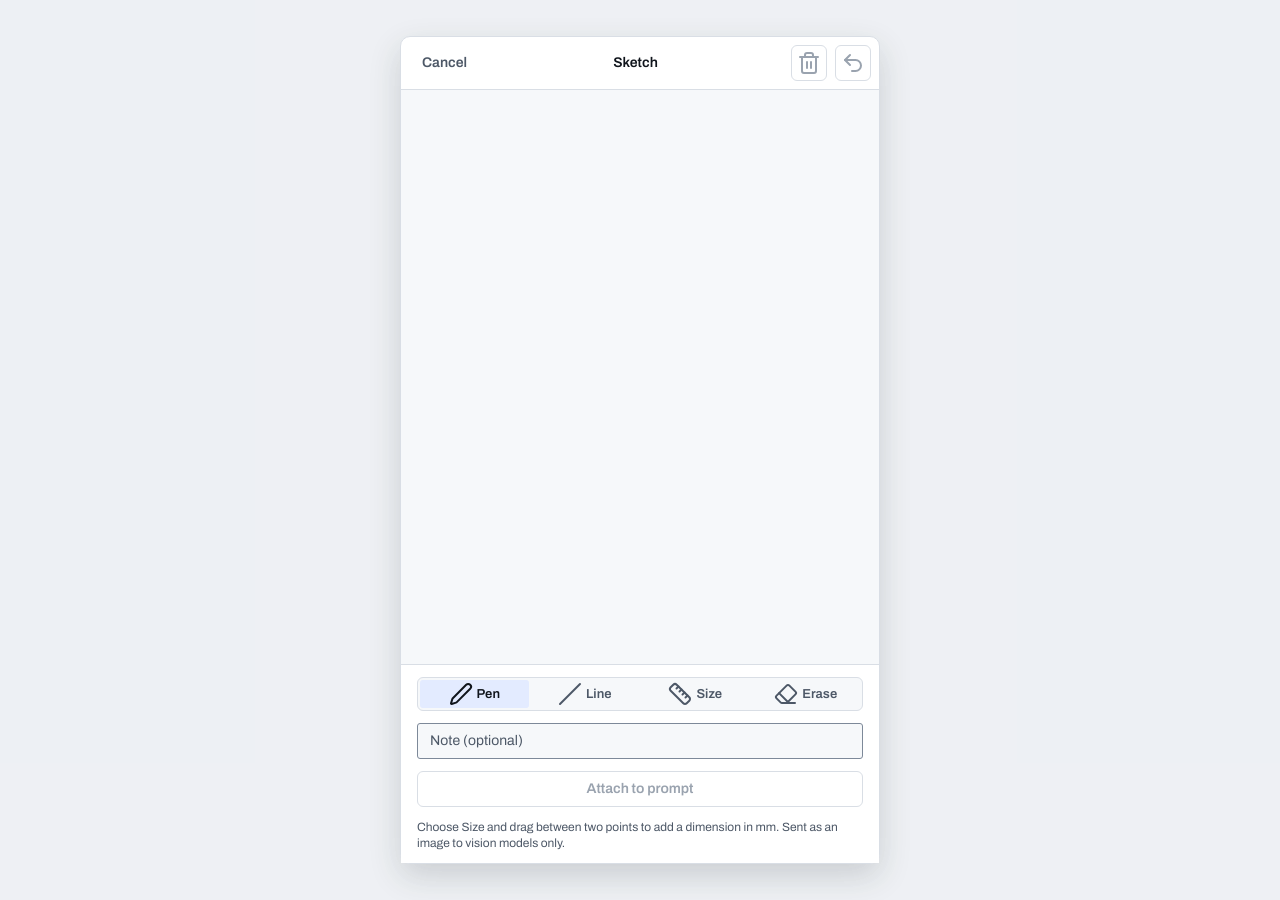
Test: undo and clear remove what was drawn
Click the button "Line". click: (585, 694)
box: [530, 680, 639, 708]
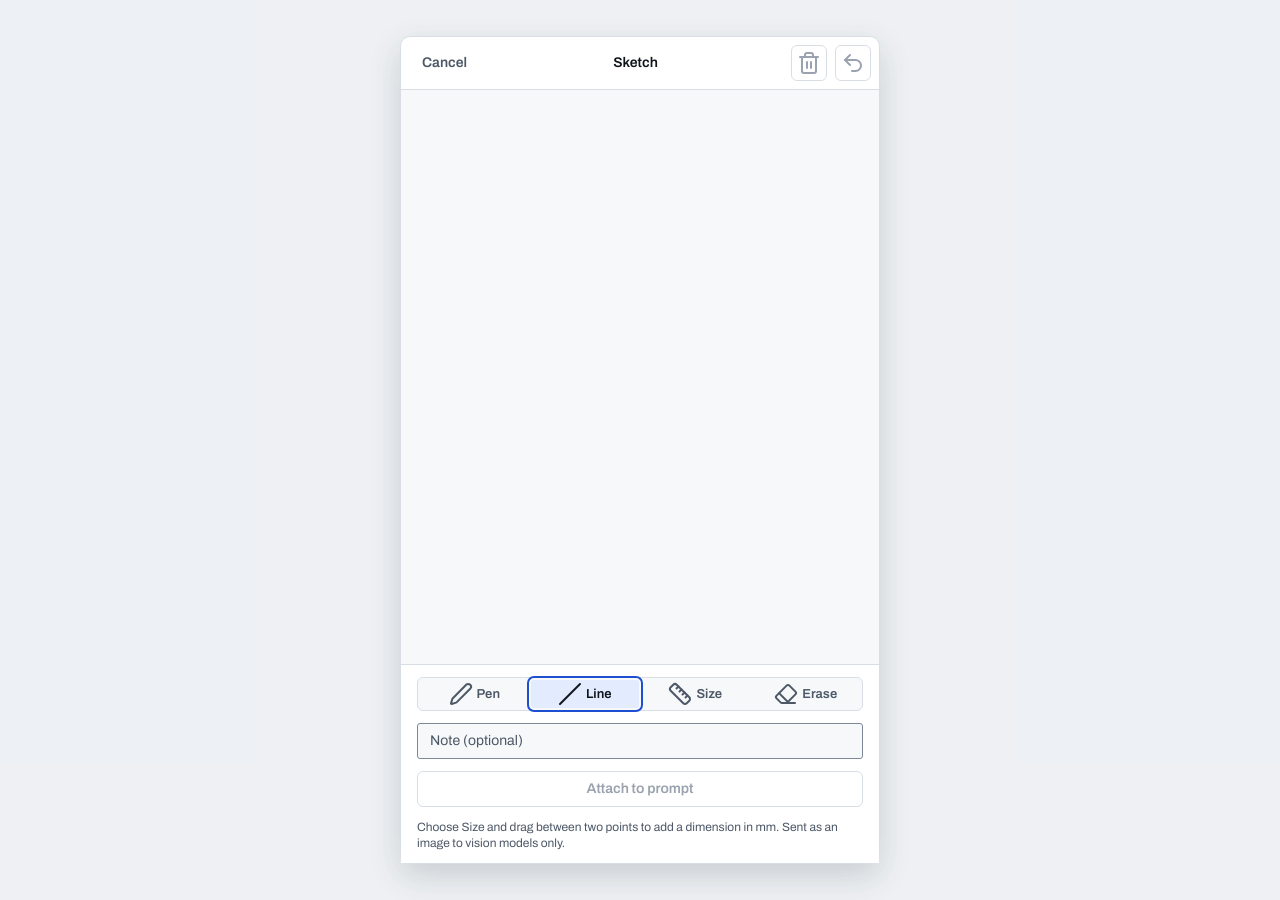
Press the mouse on the drawing named "Sketch canvas" at (640, 409), box [401, 90, 879, 727]
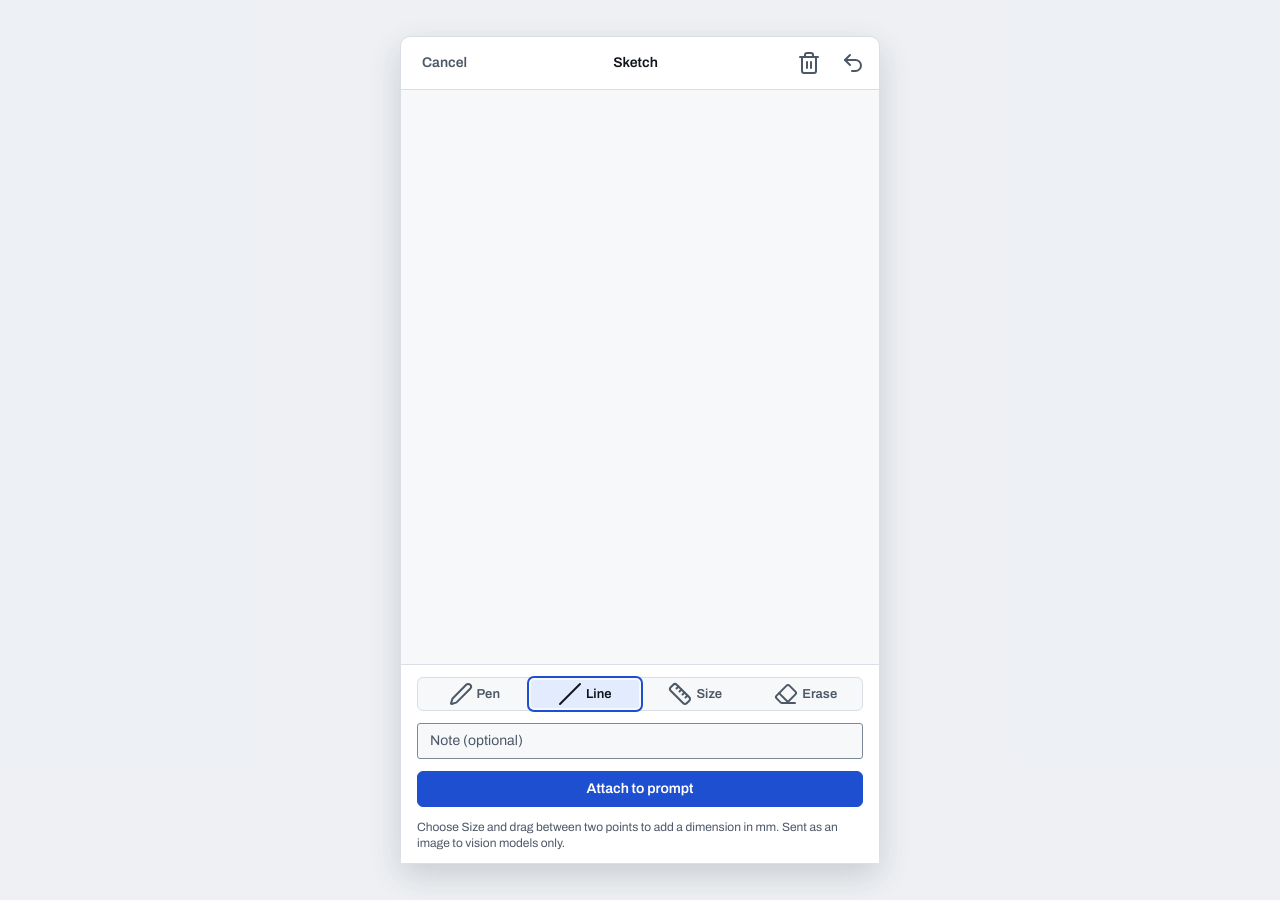
Expected: the button "Attach to prompt" is enabled, [417, 771, 863, 807]
Click the button named "Undo". click: (853, 63)
box: [835, 45, 871, 81]
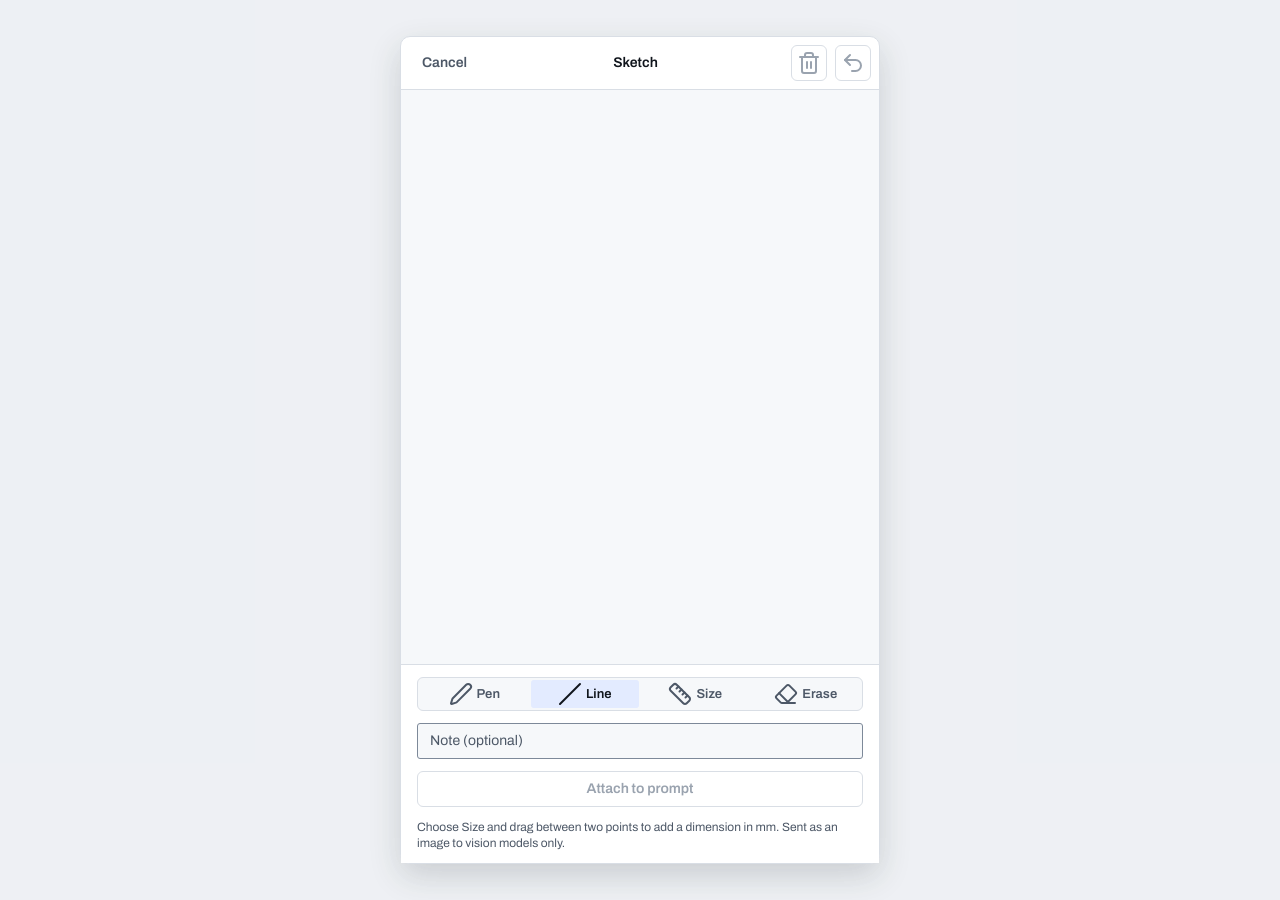
Expected: the button "Attach to prompt" is disabled, [417, 771, 863, 807]
Press the mouse on the drawing named "Sketch canvas" at (640, 409), box [401, 90, 879, 727]
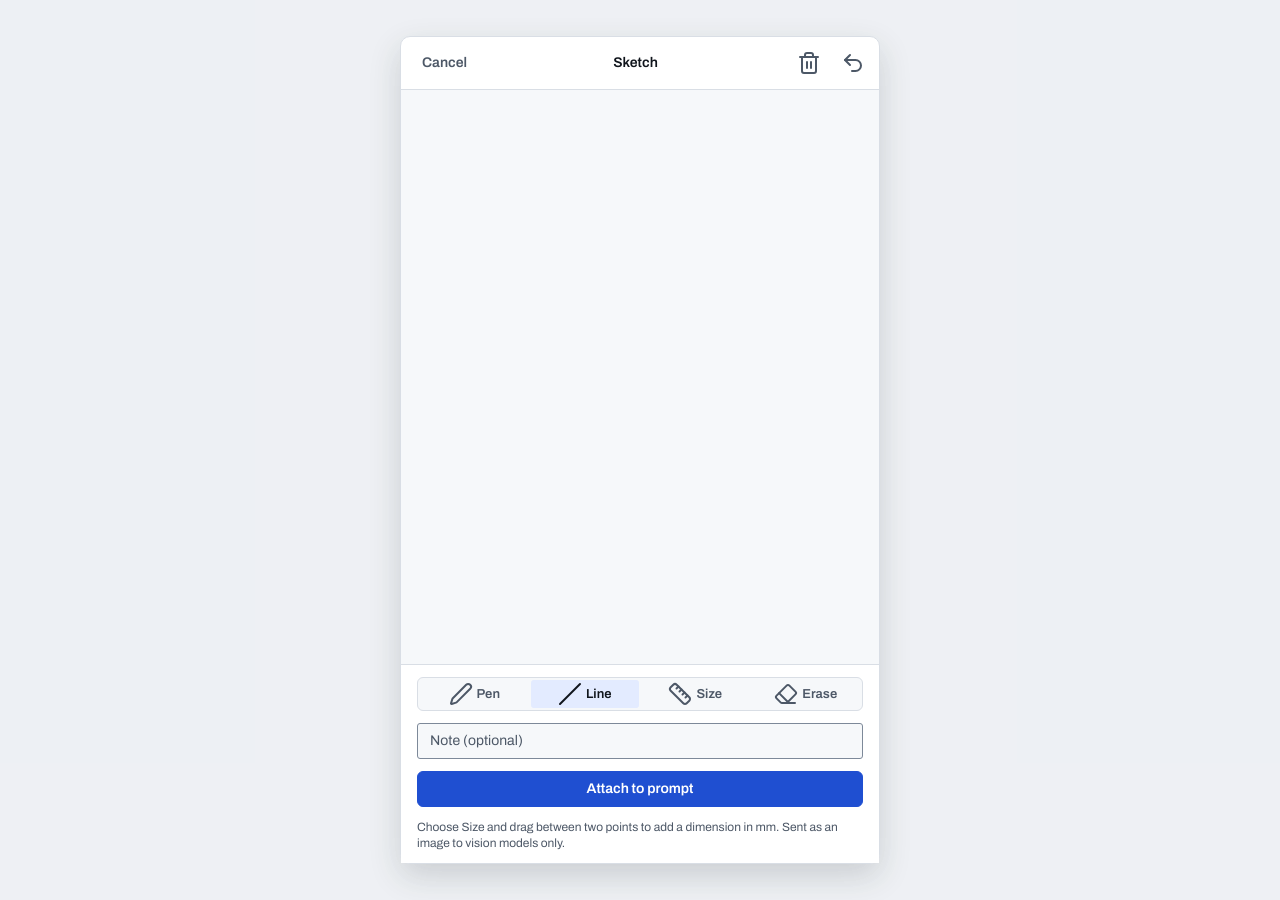
Click the button named "Clear". click: (809, 63)
box: [791, 45, 827, 81]
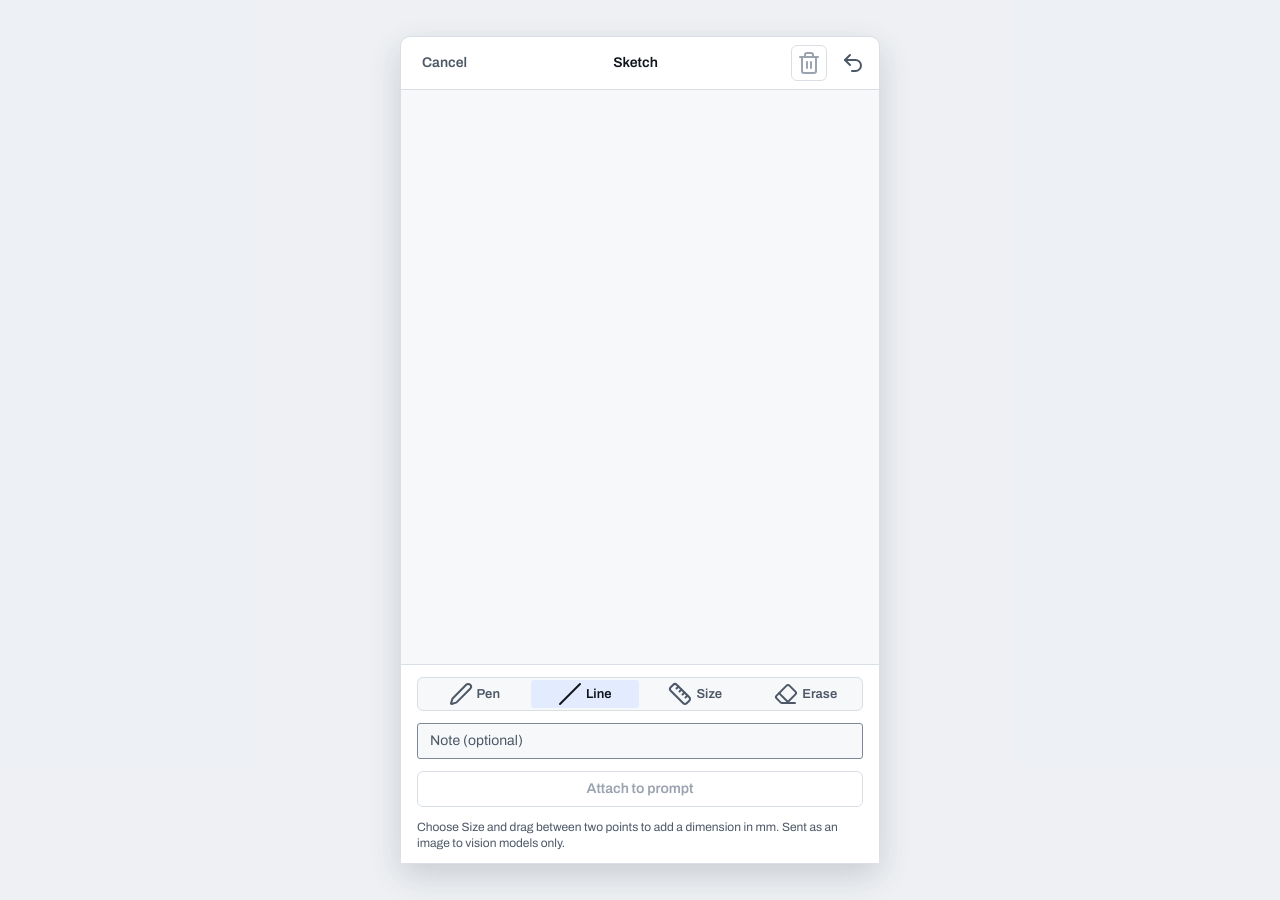
Expected: the button "Attach to prompt" is disabled, [417, 771, 863, 807]
